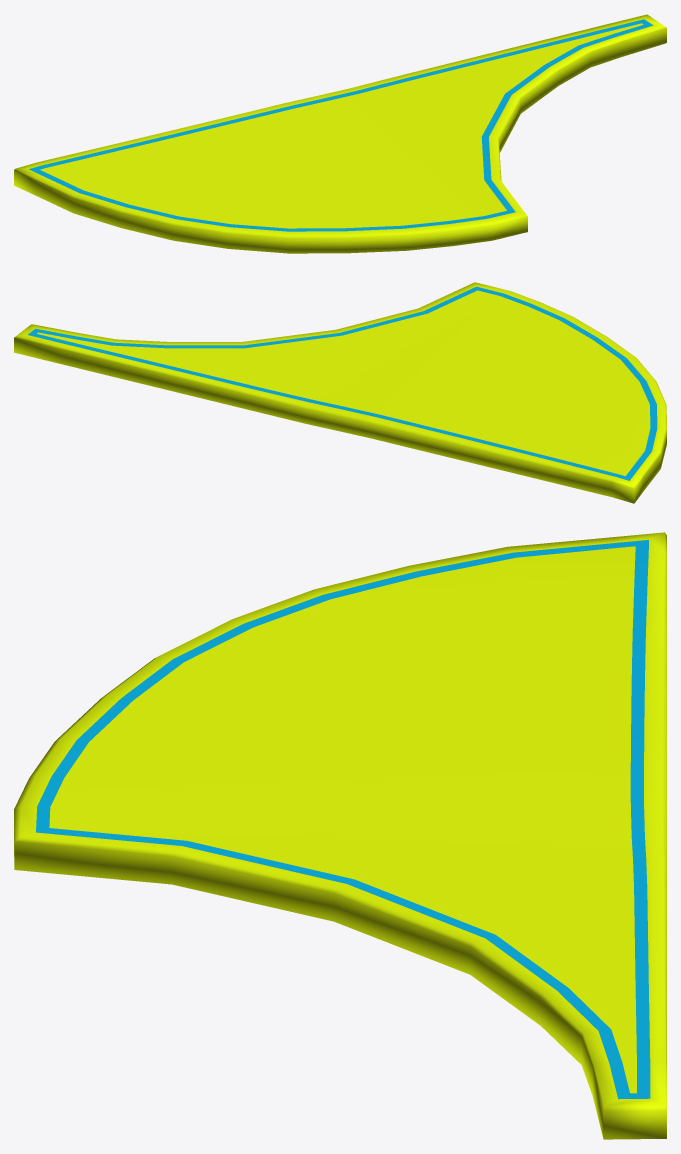
The model's file is Re_Exit_Turn_02.fbx.
3 renders of one model, top to bottom at view 1: azimuth 30°, elevation 25°; view 2: azimuth 150°, elevation 25°; view 3: azimuth 270°, elevation 25°, orthographic. The views are drawn at different scales.
Parts seen in each view (by area): view 1: Re_Exit_Turn_02; view 2: Re_Exit_Turn_02; view 3: Re_Exit_Turn_02.
Boxes of the visible parts, <box> form: Re_Exit_Turn_02: <box>14,14,666,253</box>; Re_Exit_Turn_02: <box>14,282,666,503</box>; Re_Exit_Turn_02: <box>14,532,666,1139</box>.
Bounding box in the file's own units: 8.73 × 0.2418 × 4.19.
